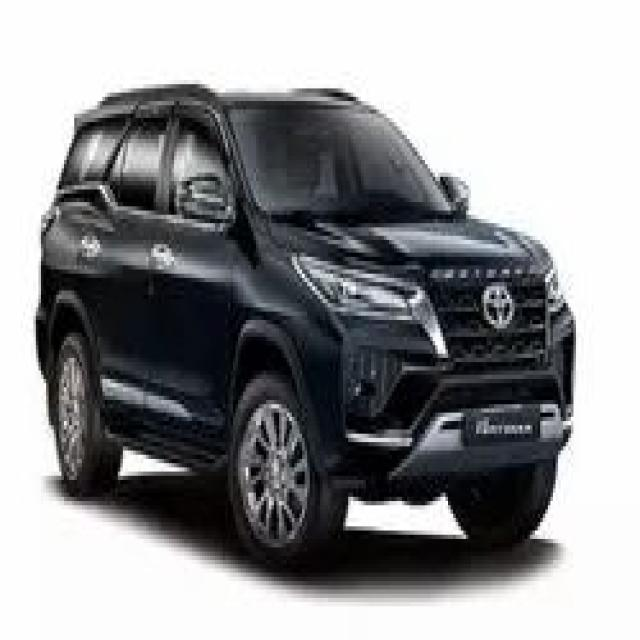light_vehicle: (34, 82, 574, 571)
